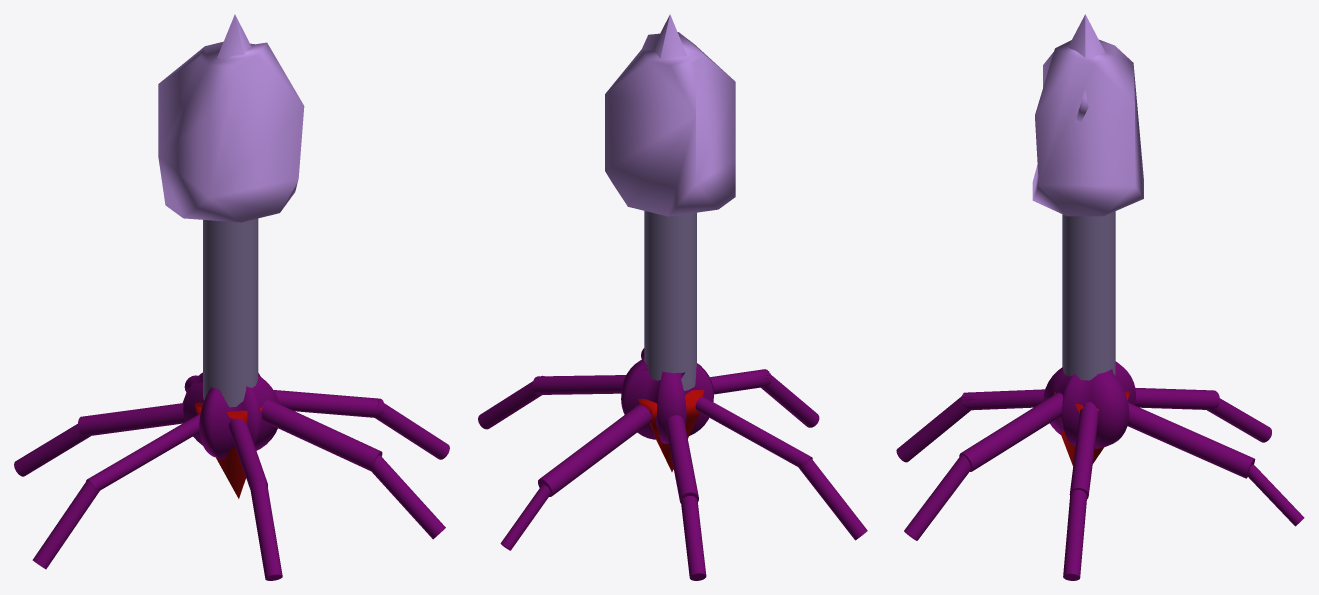
File: Virus.fbx
The picture shows the model from 3 angles, left to right: view 1: azimuth 30°, elevation 25°; view 2: azimuth 150°, elevation 25°; view 3: azimuth 270°, elevation 25°; orthographic projection. The views are drawn at different scales.
Parts seen in each view (by area): view 1: polySurface29; view 2: polySurface29; view 3: polySurface29.
Boxes of the visible parts, bbox=[...] form: polySurface29: bbox=[14, 14, 449, 580]; polySurface29: bbox=[478, 14, 867, 580]; polySurface29: bbox=[896, 14, 1304, 580].
Bounding box in the file's own units: 11.68 × 13.77 × 10.37.
